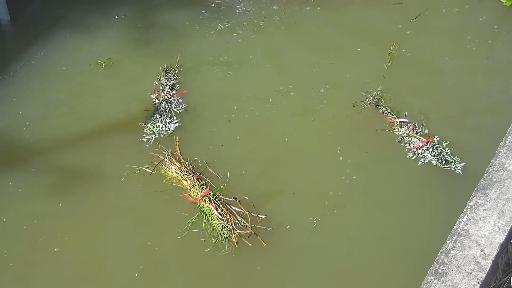leaf: (85, 51, 124, 74)
twig: (126, 140, 293, 254), (368, 35, 489, 188), (136, 53, 189, 143)
